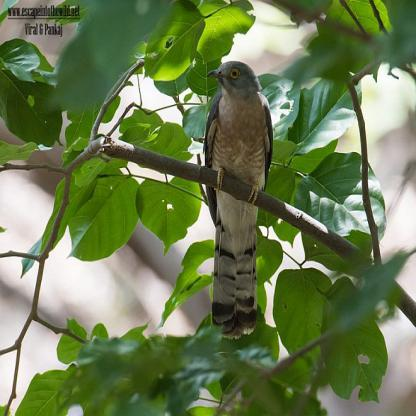Burung: (202, 61, 273, 338)
